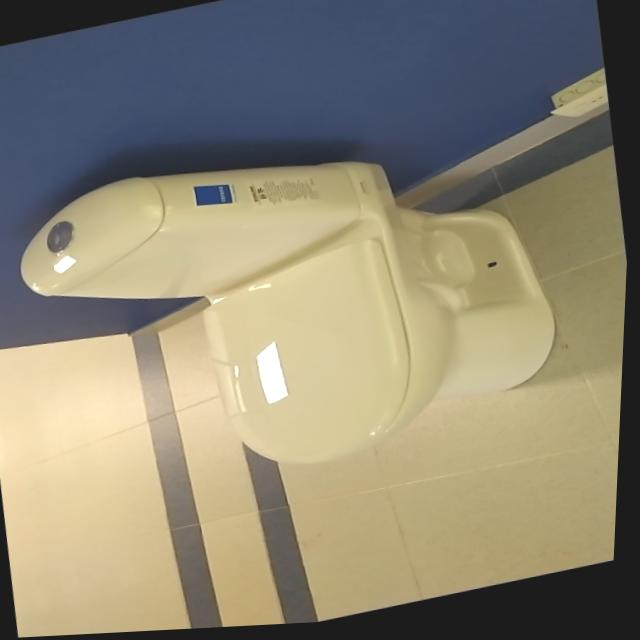toilet: (2, 97, 582, 523)
